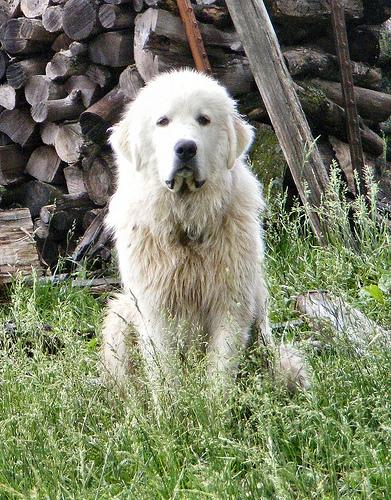dog-great_pyrenees: (109, 70, 252, 190)
